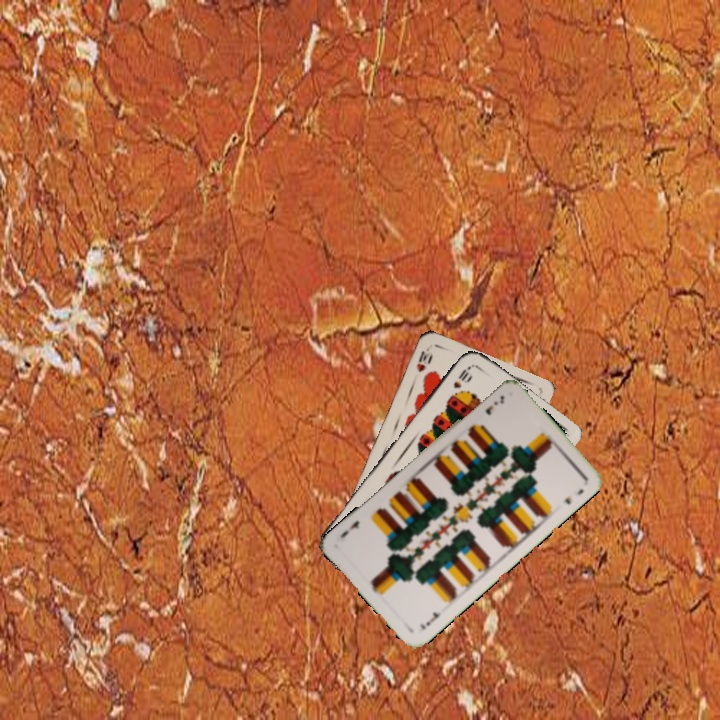E7: (416, 607, 444, 633), (481, 391, 507, 418)
H10: (412, 343, 435, 375)
S10: (449, 362, 474, 391)
